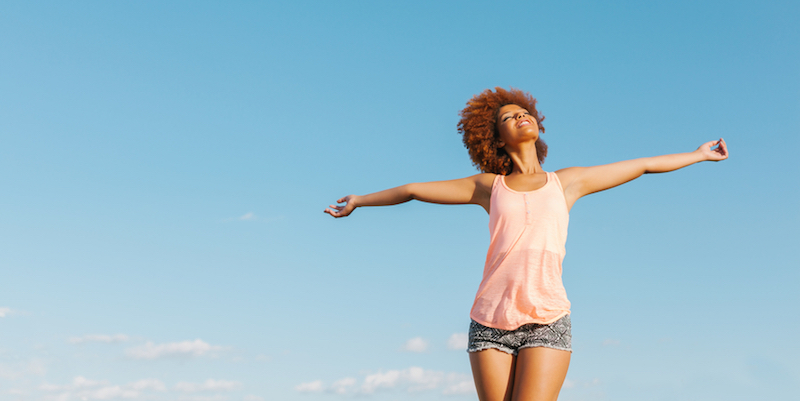happy: (496, 105, 544, 143)
